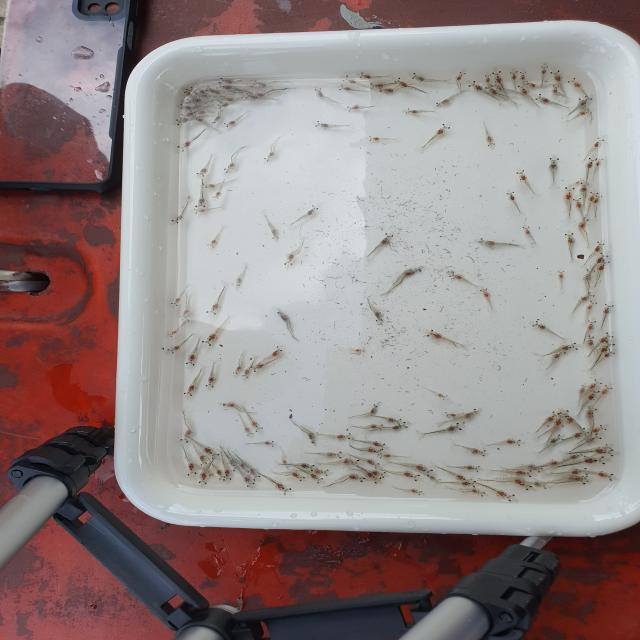babyshrimp: (410, 463, 437, 477), (272, 480, 295, 496), (493, 489, 517, 504), (198, 331, 220, 347), (509, 478, 534, 492), (201, 445, 221, 460), (179, 428, 197, 444), (364, 469, 383, 484), (576, 95, 596, 109), (397, 470, 420, 482), (570, 427, 591, 440), (565, 448, 586, 461), (559, 409, 576, 424), (597, 331, 615, 345), (435, 122, 453, 136), (580, 456, 607, 465), (401, 267, 423, 278), (592, 443, 612, 455), (444, 423, 464, 435), (521, 463, 545, 473), (567, 76, 584, 90), (205, 302, 222, 316), (379, 232, 396, 246), (467, 79, 485, 92), (181, 384, 199, 397), (578, 291, 599, 302), (596, 470, 615, 482), (553, 412, 568, 427), (249, 420, 266, 433), (557, 342, 579, 352), (512, 469, 534, 479), (424, 329, 444, 340), (548, 433, 566, 445), (478, 238, 499, 248), (577, 216, 591, 231), (584, 405, 598, 420), (467, 447, 488, 457), (184, 353, 199, 367), (535, 93, 554, 104), (454, 473, 473, 484), (165, 344, 184, 355), (249, 362, 268, 373), (547, 157, 560, 173), (562, 186, 575, 202), (578, 181, 591, 197), (582, 269, 598, 282), (338, 458, 361, 467), (176, 140, 193, 152), (599, 341, 616, 353), (463, 408, 480, 420), (565, 468, 590, 476), (566, 475, 591, 483), (530, 320, 548, 331), (593, 448, 615, 457), (306, 203, 320, 217), (551, 69, 564, 84), (592, 137, 607, 150), (516, 169, 529, 184), (594, 252, 610, 264), (545, 410, 561, 422), (313, 120, 334, 129), (468, 488, 489, 497), (364, 458, 381, 469), (491, 70, 504, 84), (572, 198, 585, 212), (563, 232, 577, 245), (593, 240, 607, 253), (601, 303, 615, 316), (585, 319, 599, 332), (283, 253, 297, 266), (204, 375, 217, 389), (248, 467, 262, 480), (194, 196, 209, 208), (434, 99, 452, 109), (598, 260, 613, 272), (277, 311, 292, 323), (270, 345, 285, 357), (187, 462, 199, 477), (197, 471, 209, 486), (291, 471, 306, 483), (391, 422, 409, 432), (394, 77, 410, 88), (587, 379, 603, 390), (308, 473, 324, 484), (584, 433, 603, 442), (348, 473, 367, 482), (205, 85, 222, 95), (410, 72, 427, 82), (591, 424, 608, 434), (370, 441, 387, 451), (448, 271, 465, 281), (587, 390, 601, 402), (228, 459, 240, 473), (484, 84, 499, 95), (299, 463, 317, 472), (341, 75, 357, 85), (490, 82, 506, 92), (504, 438, 524, 446), (459, 480, 479, 488), (323, 451, 343, 459), (455, 70, 467, 83), (539, 63, 551, 76), (585, 157, 597, 170), (223, 162, 237, 173), (263, 151, 277, 162), (517, 84, 531, 95), (231, 365, 245, 376), (223, 468, 234, 482), (463, 465, 482, 473), (363, 447, 382, 455), (171, 215, 186, 225), (216, 82, 234, 90), (378, 88, 396, 96), (408, 488, 426, 496), (374, 311, 386, 323), (334, 432, 352, 440), (385, 417, 403, 425), (366, 423, 384, 431), (370, 470, 386, 479), (587, 191, 600, 202), (585, 300, 598, 311), (601, 384, 614, 395), (215, 468, 226, 481), (243, 477, 256, 488), (307, 431, 318, 444), (196, 167, 210, 177), (242, 426, 256, 436), (178, 309, 193, 318), (165, 329, 180, 338), (506, 191, 517, 203), (521, 225, 532, 237), (238, 462, 250, 473), (169, 297, 182, 307), (369, 402, 379, 415), (175, 118, 191, 126), (188, 86, 202, 95), (184, 98, 205, 104), (337, 85, 355, 92), (578, 108, 592, 117), (553, 350, 567, 359), (603, 349, 617, 358), (313, 87, 324, 98), (508, 71, 519, 82), (486, 136, 497, 147), (223, 120, 238, 128), (217, 102, 232, 110), (443, 410, 458, 418), (434, 393, 449, 401), (271, 228, 281, 240), (241, 368, 253, 378), (370, 83, 387, 90), (222, 402, 239, 409), (313, 469, 330, 476), (245, 93, 261, 100), (346, 105, 360, 113), (405, 108, 421, 115), (526, 80, 540, 88), (211, 115, 222, 125), (550, 85, 561, 95), (595, 158, 605, 169), (593, 195, 604, 205), (578, 384, 589, 394), (479, 288, 490, 298), (198, 455, 209, 465), (220, 97, 238, 103), (586, 335, 595, 347), (206, 239, 218, 248), (202, 183, 217, 190), (359, 72, 372, 80), (262, 440, 275, 448), (219, 78, 236, 84), (179, 104, 196, 110), (251, 82, 268, 88), (557, 270, 566, 281), (182, 112, 196, 119), (190, 110, 206, 116), (575, 177, 585, 186), (378, 452, 393, 458), (519, 70, 527, 81), (367, 136, 381, 142), (212, 191, 222, 199), (192, 209, 208, 214), (484, 74, 492, 82), (235, 278, 242, 287), (353, 349, 365, 352)
